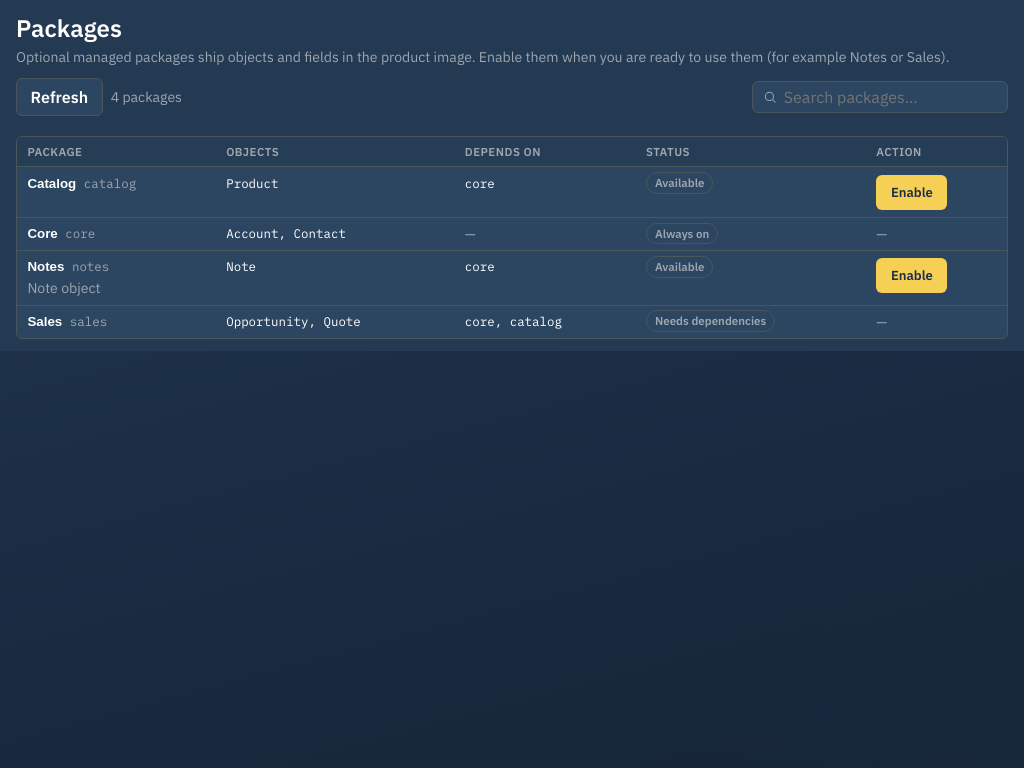
Test: PackagesPanel › lists packages and enables notes when deps are met
This screenshot has width=1024, height=768.
expect the element with test id "pkg-list" is shown: met, box [16,136,1008,339]
expect the field with test id "pkg-search" is shown: met, box [784,83,997,111]
Click the button with test id "pkg-enable-notes" at (912, 276), box [876,258,947,293]
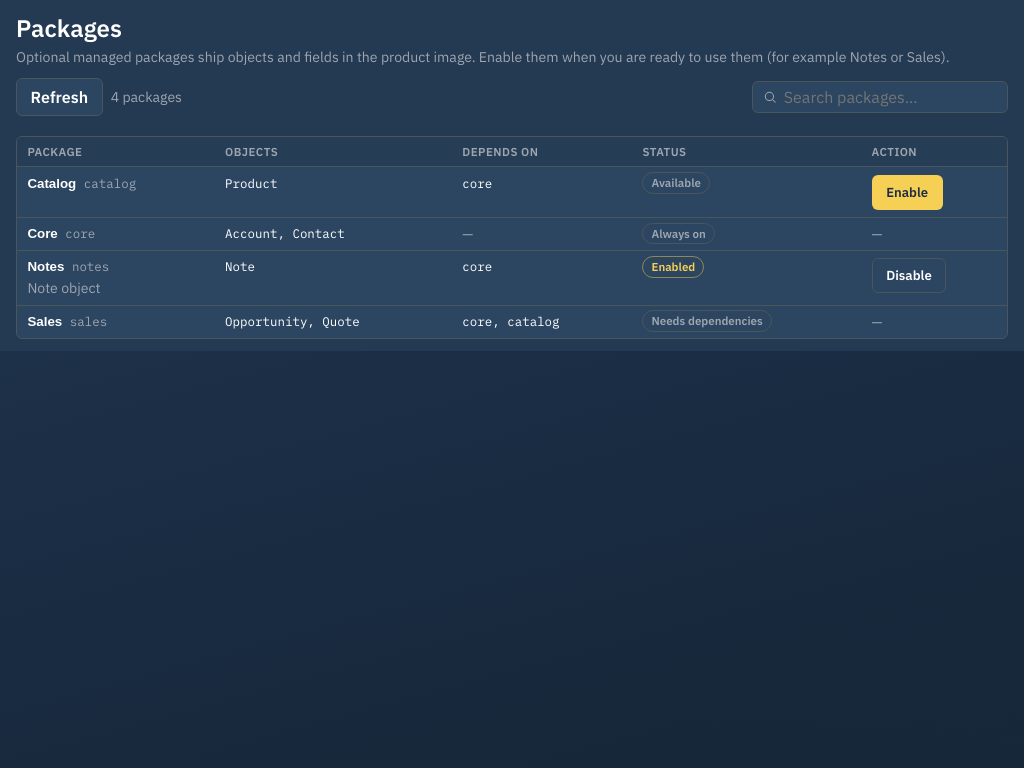
expect the button with test id "pkg-disable-notes" is shown: met, box [872,258,946,293]
